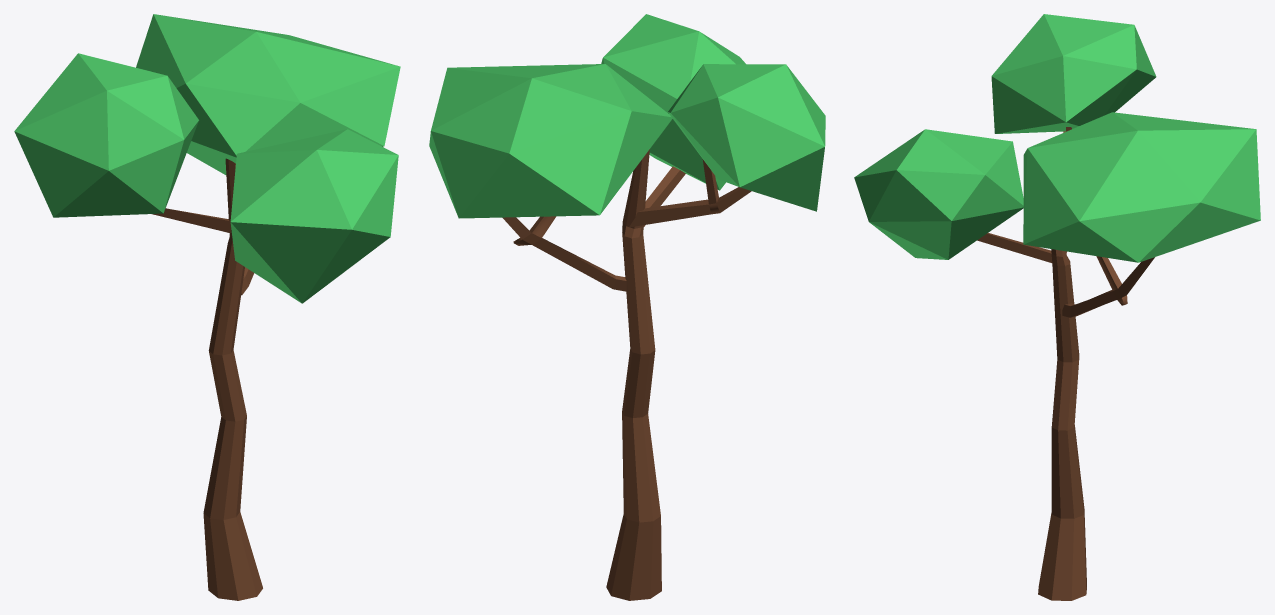
Rendered from Tree2.fbx.
3 views of the same model, side by side, from view 1: azimuth 30°, elevation 25°; view 2: azimuth 150°, elevation 25°; view 3: azimuth 270°, elevation 25° (orthographic). The views are drawn at different scales.
Parts seen in each view (by area): view 1: tree 3; view 2: tree 3; view 3: tree 3.
Boxes of the visible parts, bbox=[...] form: tree 3: bbox=[14, 14, 400, 600]; tree 3: bbox=[429, 14, 825, 600]; tree 3: bbox=[854, 14, 1260, 600].
Bounding box in the file's own units: 459 × 626 × 451.
